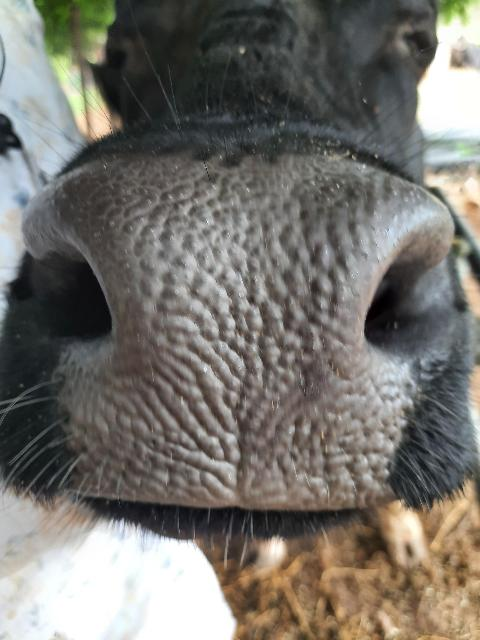Muzzle: (110, 185, 368, 500)
